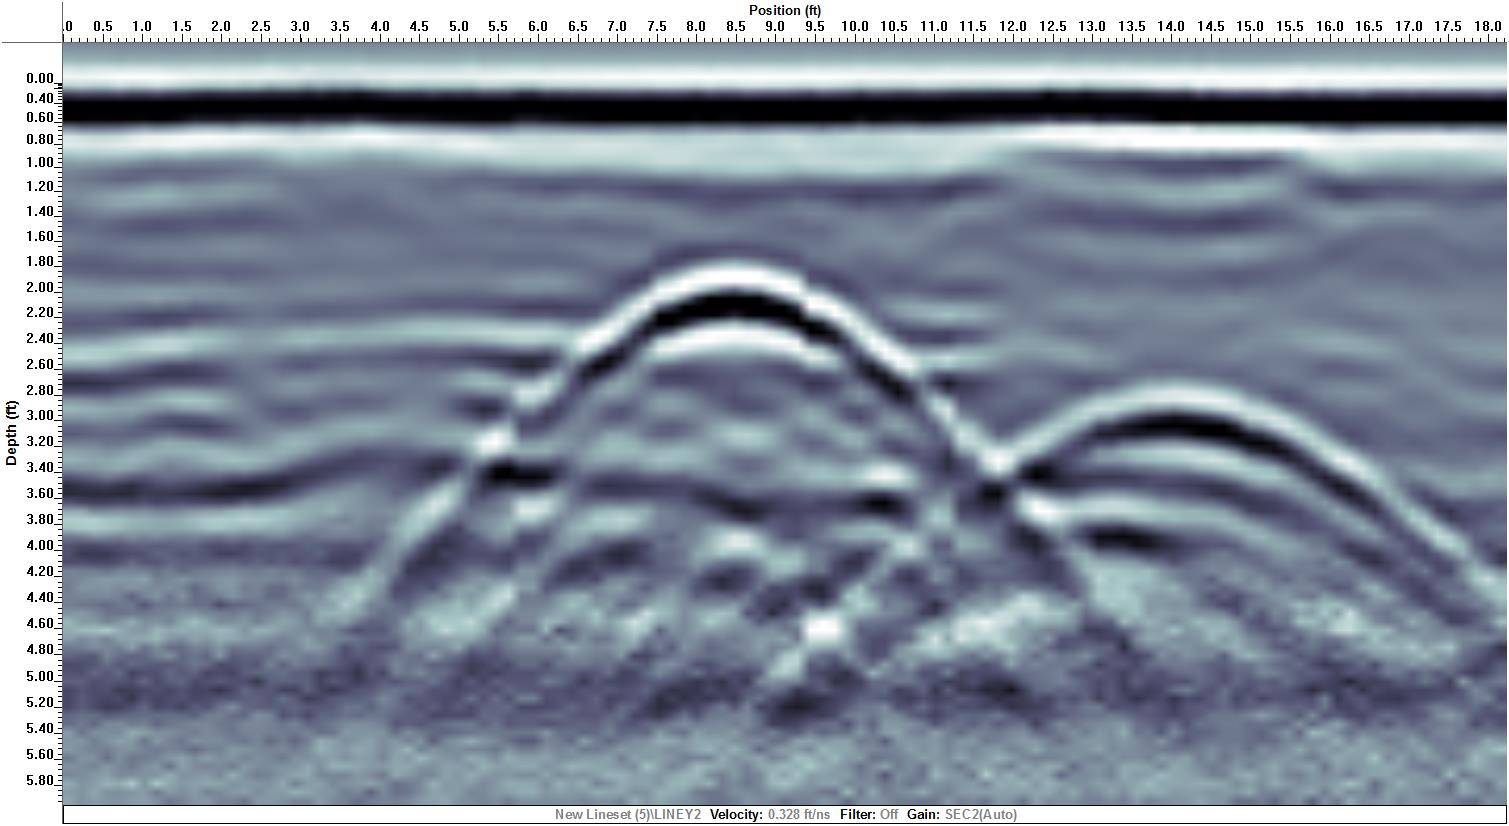hyperbola: (389, 244, 1082, 698), (846, 362, 1509, 691)
